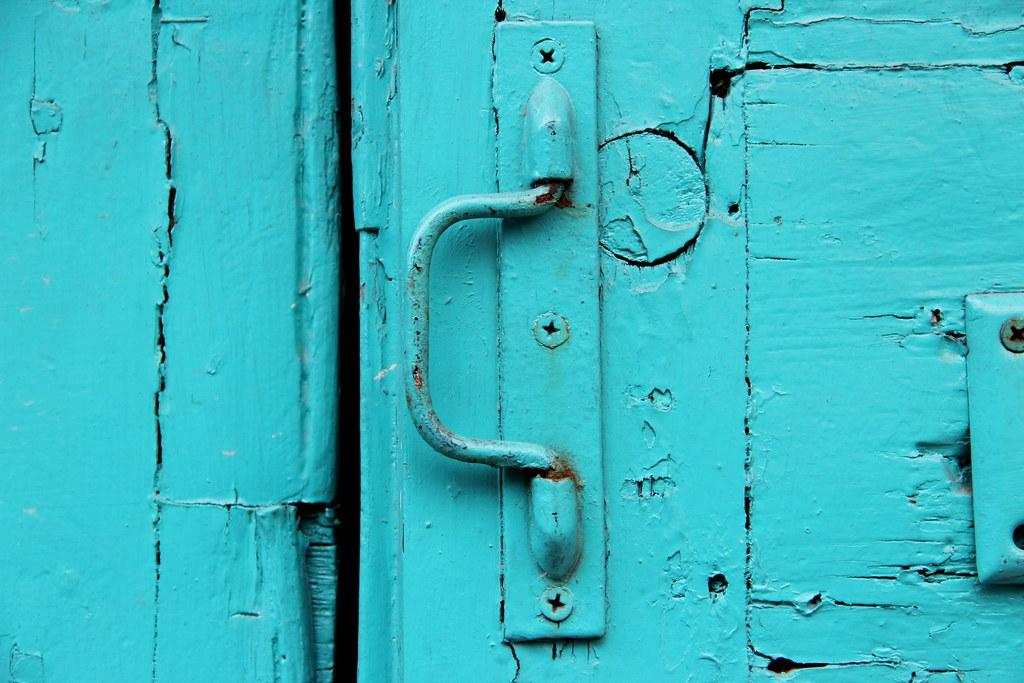door: (1, 1, 1023, 682)
